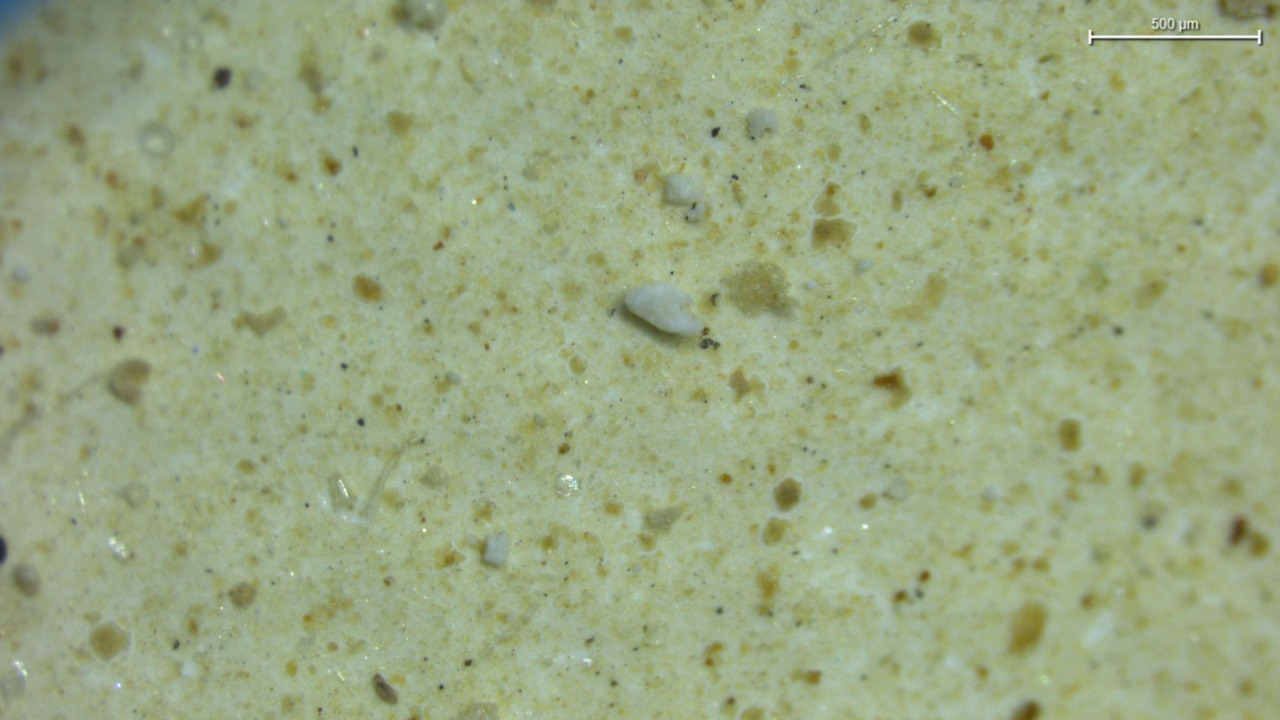microplastic_fragment: (624, 282, 703, 336), (664, 174, 701, 204), (746, 108, 778, 139), (482, 532, 510, 567)
